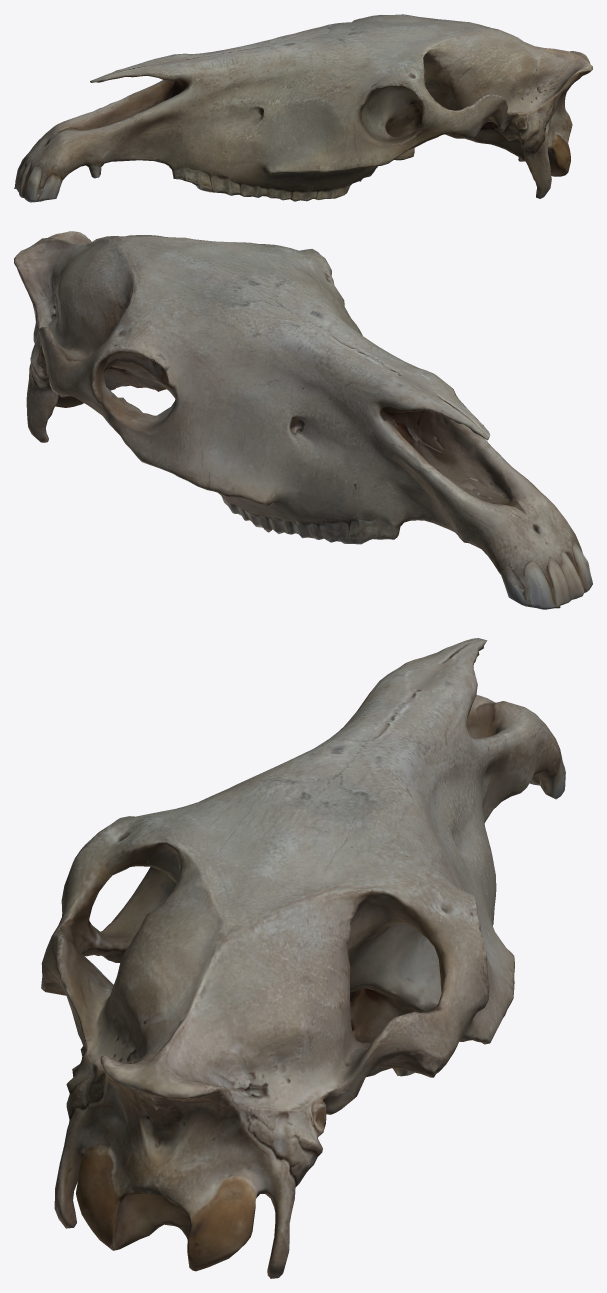
Rendered from cranio-equino.glb.
3 renders of one model, top to bottom at view 1: azimuth 30°, elevation 25°; view 2: azimuth 150°, elevation 25°; view 3: azimuth 270°, elevation 25°, orthographic. The views are drawn at different scales.
Parts seen in each view (by area): view 1: 3DModel_LowPoly; view 2: 3DModel_LowPoly; view 3: 3DModel_LowPoly.
Part boxes in pixels (x1,y1,x2,y2): 3DModel_LowPoly: (14, 14, 592, 202); 3DModel_LowPoly: (14, 231, 592, 609); 3DModel_LowPoly: (41, 638, 565, 1278).
Bounding box in the file's own units: 6.42 × 2.03 × 2.97.
Materials: 1 (1 with a texture image).
